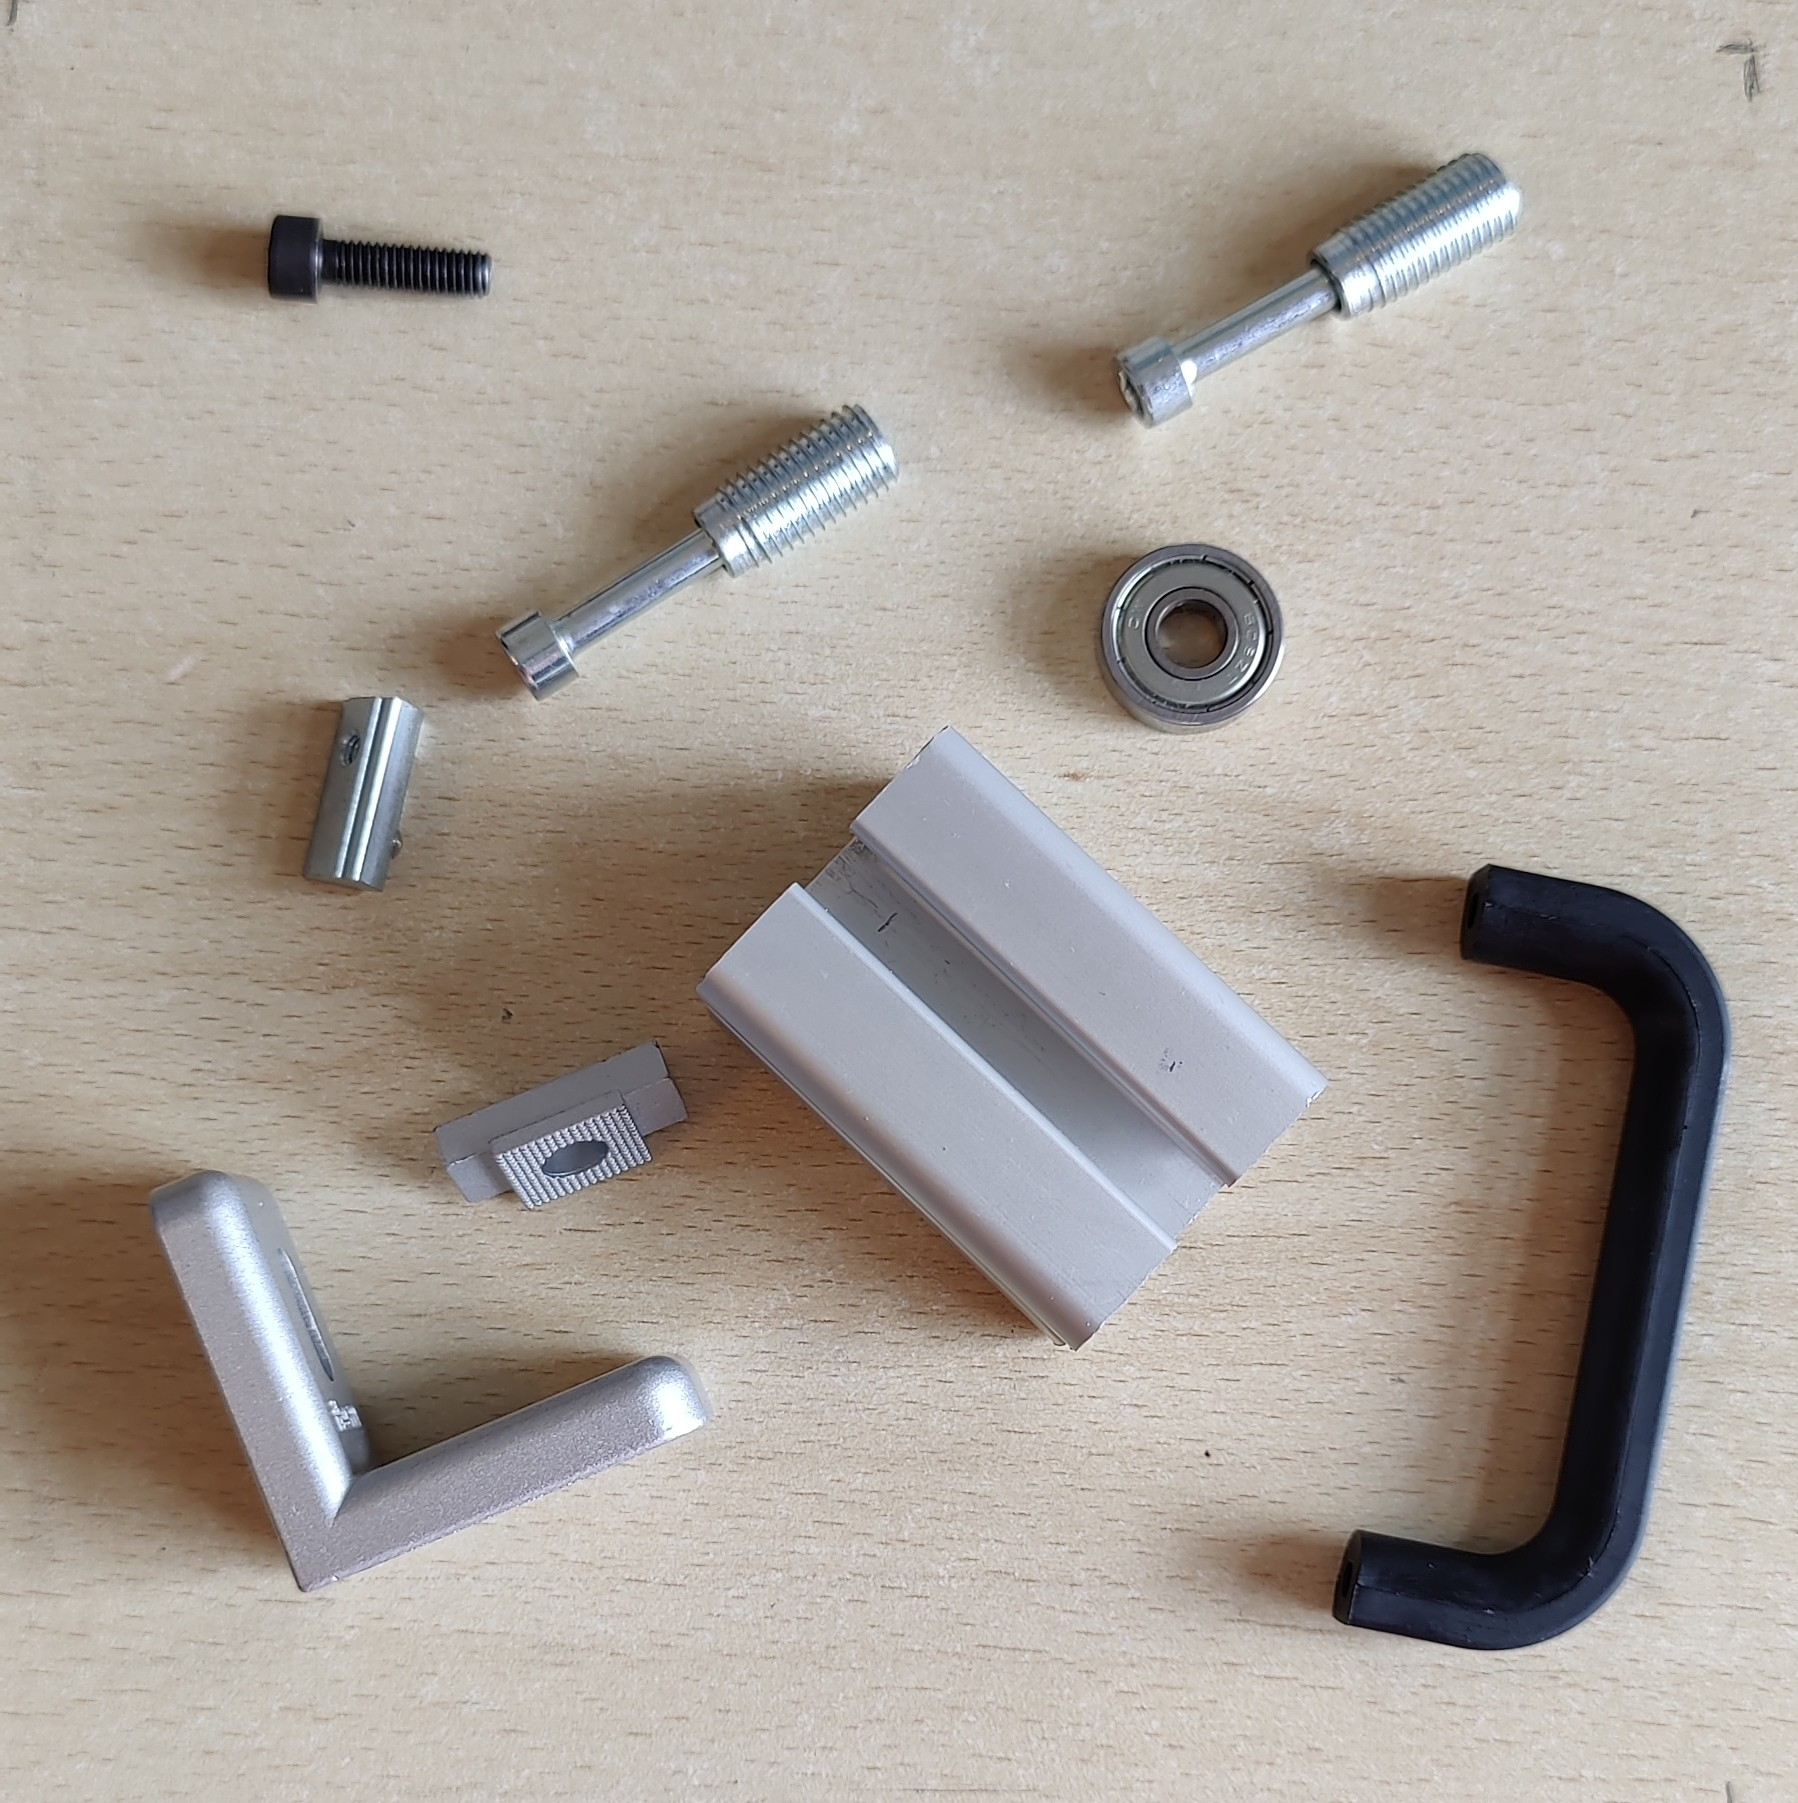Aluminium Extension: (692, 721, 1329, 1353)
Ball Bearing: (1092, 538, 1289, 738)
Multiwinkel: (148, 1167, 718, 1596)
Pull Handle: (1325, 863, 1737, 1653)
Shoulder Socket Head Cap Screw: (492, 400, 902, 705), (1115, 148, 1528, 431)
Socket Head Cap Screw: (262, 211, 496, 310)
T Nut Square: (428, 1037, 692, 1214)
T Spring Nut: (300, 692, 426, 892)
